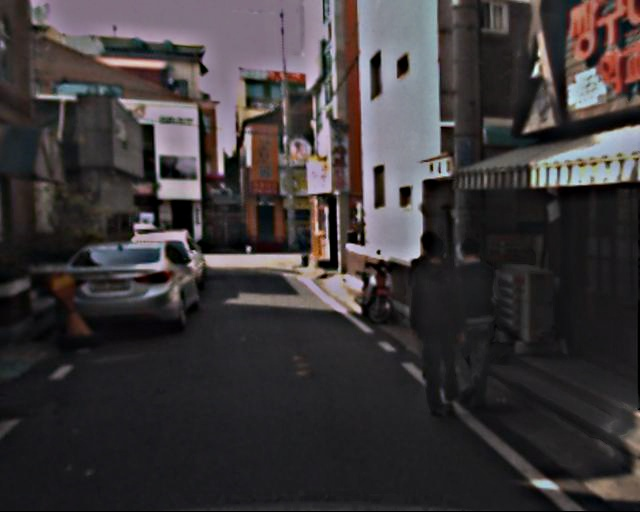person: (404, 239, 478, 419), (436, 240, 505, 409), (403, 232, 465, 383)
